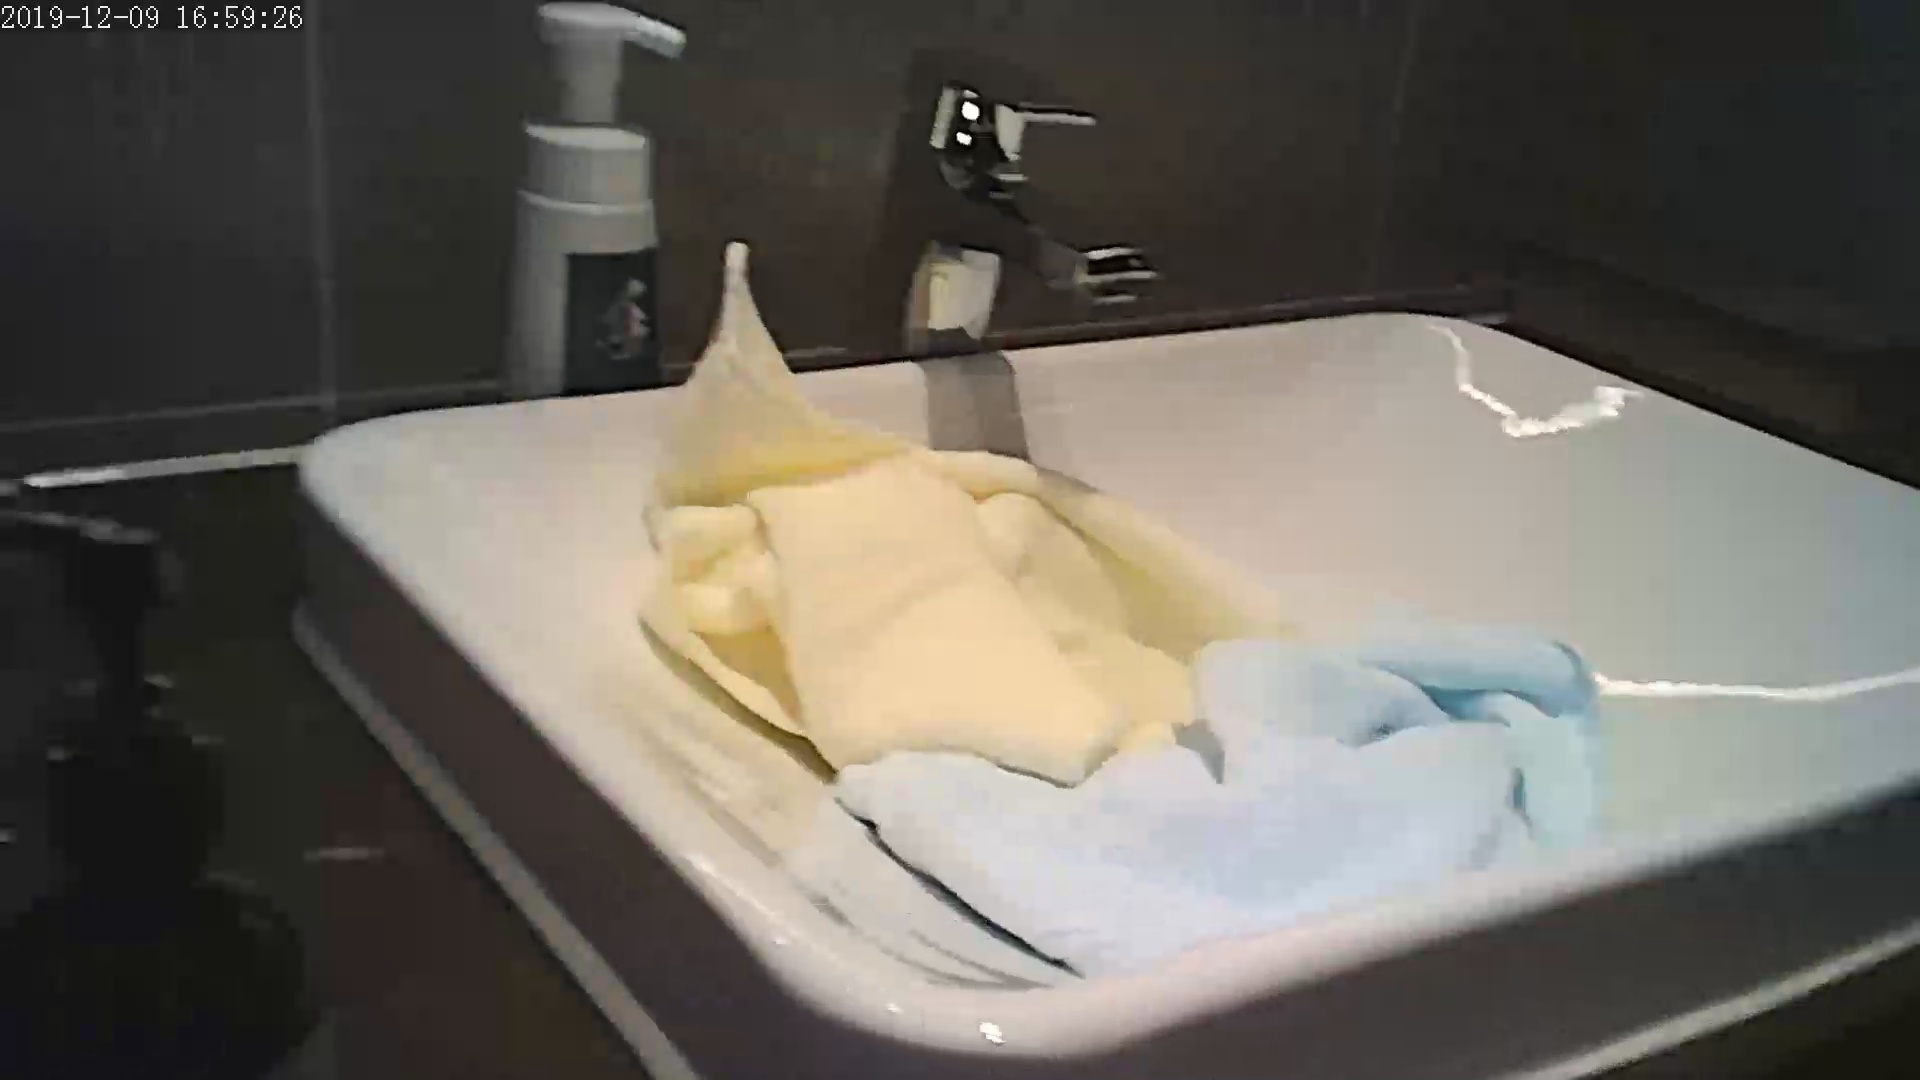bluecloth: (920, 645, 1576, 942)
sink: (286, 73, 1902, 1069)
yellowcloth: (661, 372, 1134, 746)
